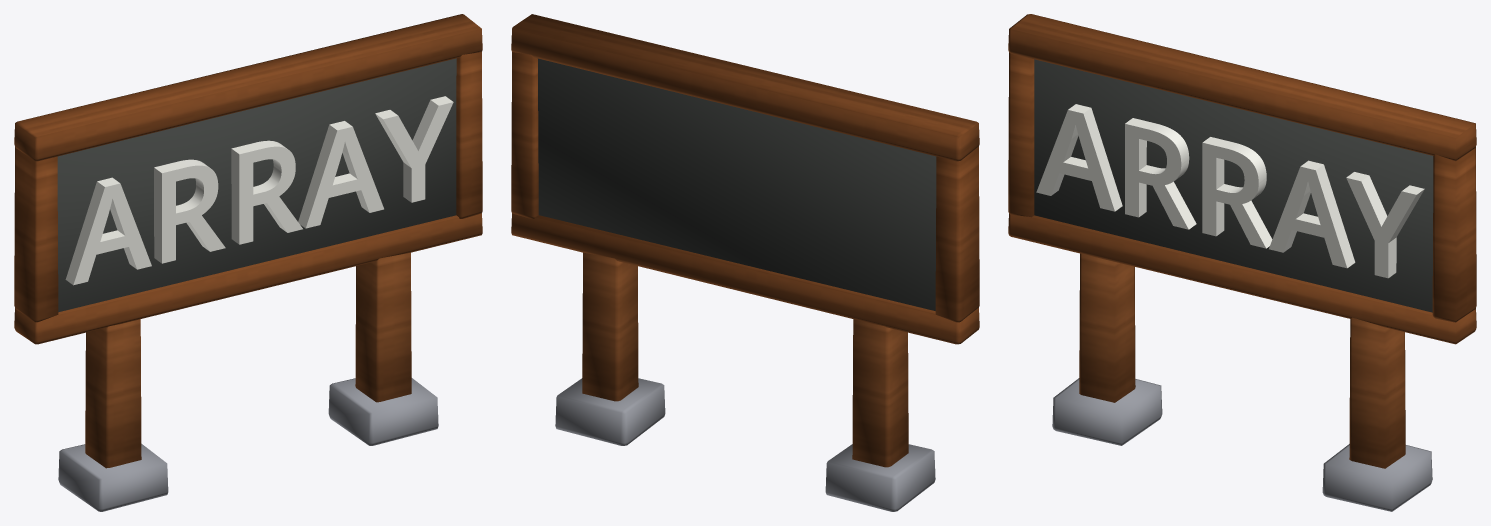
File: 49_sign_array_a.glb
The picture shows the model from 3 angles, left to right: view 1: azimuth 30°, elevation 25°; view 2: azimuth 150°, elevation 25°; view 3: azimuth 330°, elevation 25°; orthographic projection.
Visible parts, largest first — view 1: SlateBoard, SignText, FrameTop, FrameBottom, WoodPost_1, WoodPost_-1, FrameSide_-1, StoneBase_-1, StoneBase_1, FrameSide_1; view 2: SlateBoard, FrameTop, FrameBottom, WoodPost_1, WoodPost_-1, FrameSide_-1, StoneBase_-1, StoneBase_1, FrameSide_1; view 3: SlateBoard, SignText, FrameTop, FrameBottom, WoodPost_1, WoodPost_-1, FrameSide_1, StoneBase_-1, StoneBase_1, FrameSide_-1.
Boxes of the visible parts, x1,y1,x2,y2 form: SlateBoard: [57, 58, 456, 312]; SignText: [65, 96, 453, 285]; FrameTop: [14, 14, 482, 161]; FrameBottom: [14, 213, 482, 344]; WoodPost_1: [355, 252, 411, 402]; WoodPost_-1: [85, 319, 141, 468]; FrameSide_-1: [14, 147, 58, 322]; StoneBase_-1: [58, 443, 168, 511]; StoneBase_1: [328, 378, 438, 445]; FrameSide_1: [456, 52, 482, 218]; SlateBoard: [538, 58, 936, 310]; FrameTop: [511, 14, 979, 161]; FrameBottom: [511, 213, 979, 344]; WoodPost_1: [582, 252, 638, 401]; WoodPost_-1: [852, 319, 908, 467]; FrameSide_-1: [935, 146, 979, 322]; StoneBase_-1: [825, 444, 935, 511]; StoneBase_1: [555, 378, 665, 445]; FrameSide_1: [511, 52, 538, 218]; SlateBoard: [1034, 59, 1433, 312]; SignText: [1036, 104, 1424, 278]; FrameTop: [1008, 14, 1476, 161]; FrameBottom: [1008, 214, 1476, 344]; WoodPost_1: [1349, 317, 1405, 468]; WoodPost_-1: [1079, 253, 1135, 402]; FrameSide_1: [1432, 147, 1476, 322]; StoneBase_-1: [1052, 378, 1162, 445]; StoneBase_1: [1322, 444, 1432, 511]; FrameSide_-1: [1008, 52, 1034, 217].
Bounding box in the file's own units: 1.3 × 1.06 × 0.21.
5 materials, 2 textured.
